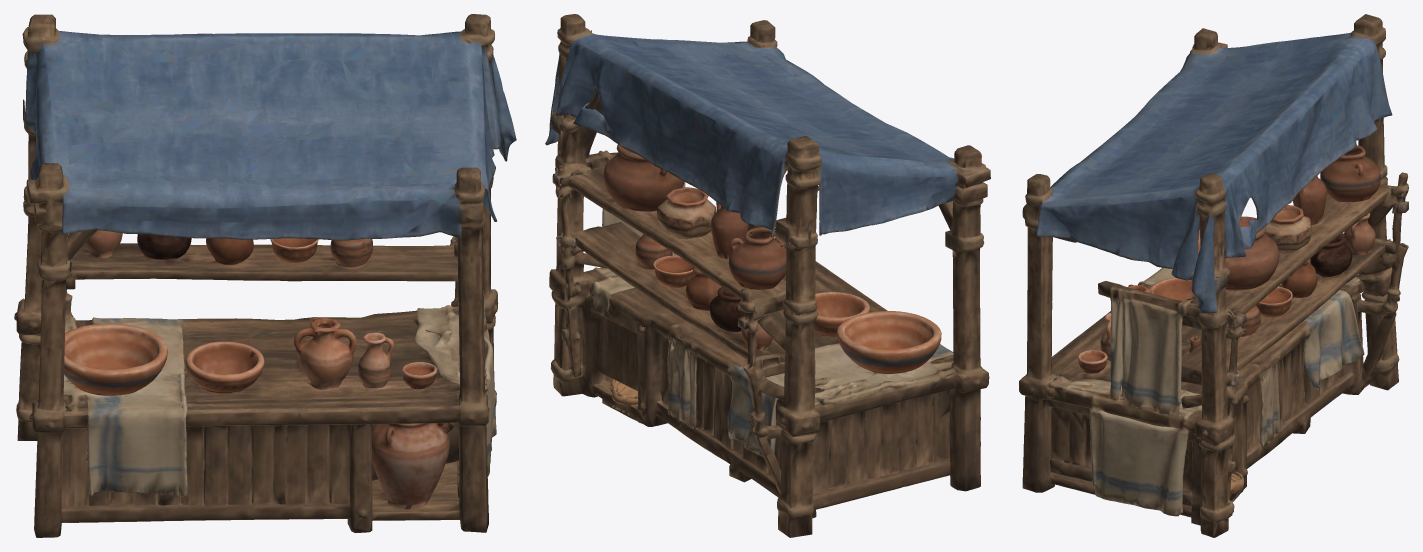
File: pottery-market-stall-pixal3d.glb
The picture shows the model from 3 angles, left to right: view 1: azimuth 30°, elevation 25°; view 2: azimuth 150°, elevation 25°; view 3: azimuth 270°, elevation 25°; orthographic projection. The views are drawn at different scales.
Parts seen in each view (by area): view 1: geometry_0; view 2: geometry_0; view 3: geometry_0.
Part boxes in pixels (box(x1,y1,x2,y2)): geometry_0: box(14, 14, 516, 537); geometry_0: box(545, 14, 990, 537); geometry_0: box(1019, 14, 1408, 537).
Bounding box in the file's own units: 3.32 × 2.8 × 2.7.
1 material, 1 textured.
